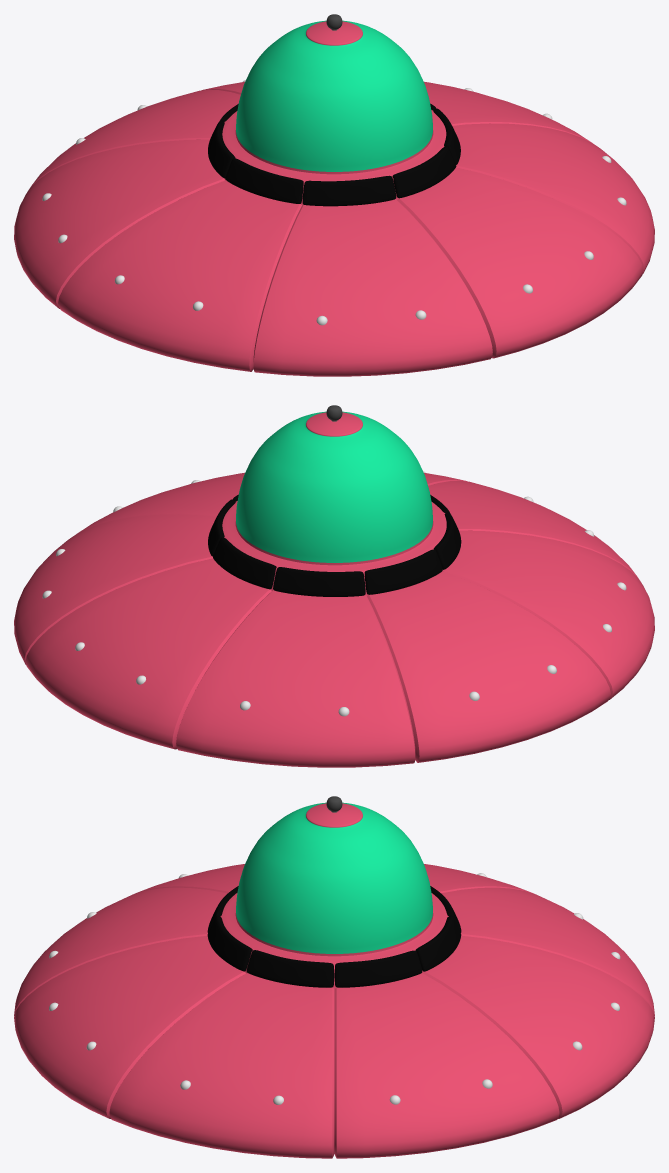
File: ufo.gltf
The picture shows the model from 3 angles, top to bottom: view 1: azimuth 30°, elevation 25°; view 2: azimuth 150°, elevation 25°; view 3: azimuth 270°, elevation 25°; orthographic projection.
Visible parts, largest first — view 1: UFO; view 2: UFO; view 3: UFO.
Part boxes in pixels (x1,y1,x2,y2): UFO: (14,14,654,376); UFO: (14,405,654,767); UFO: (14,796,654,1158).
Bounding box in the file's own units: 0.8386 × 0.4375 × 0.8386.
